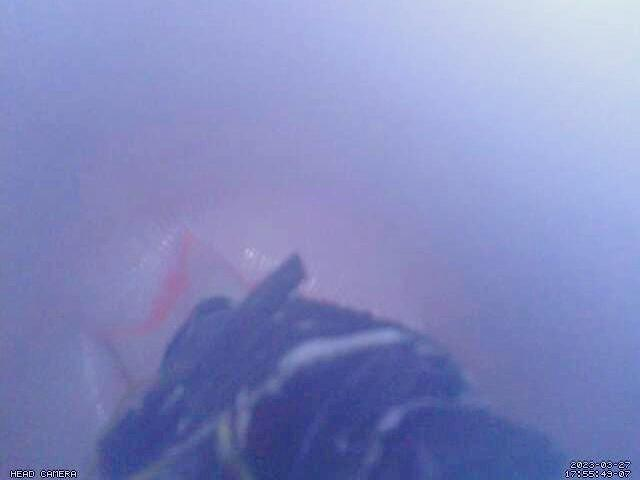head: (96, 222, 256, 340)
